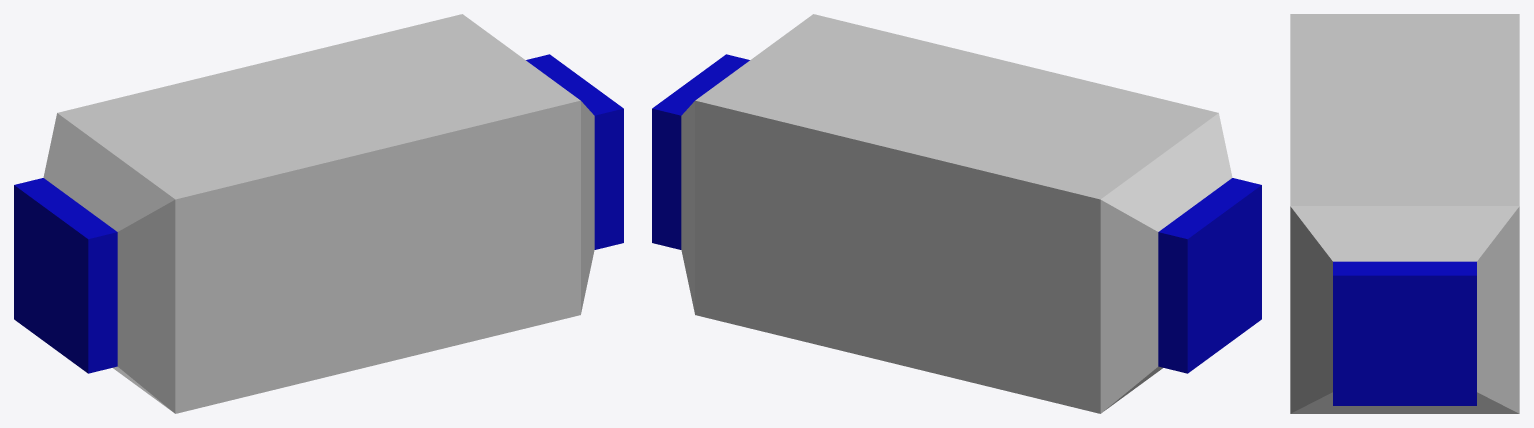
File: Station_Module.obj
3 renders of one model, left to right at view 1: azimuth 30°, elevation 25°; view 2: azimuth 150°, elevation 25°; view 3: azimuth 270°, elevation 25°, orthographic. The views are drawn at different scales.
Parts seen in each view (by area): view 1: Cube.005_Cube.002; view 2: Cube.005_Cube.002; view 3: Cube.005_Cube.002.
Boxes of the visible parts, x1,y1,x2,y2 form: Cube.005_Cube.002: [14, 14, 623, 413]; Cube.005_Cube.002: [652, 14, 1261, 413]; Cube.005_Cube.002: [1290, 14, 1519, 413].
Bounding box in the file's own units: 2.26 × 0.8642 × 0.8642.
